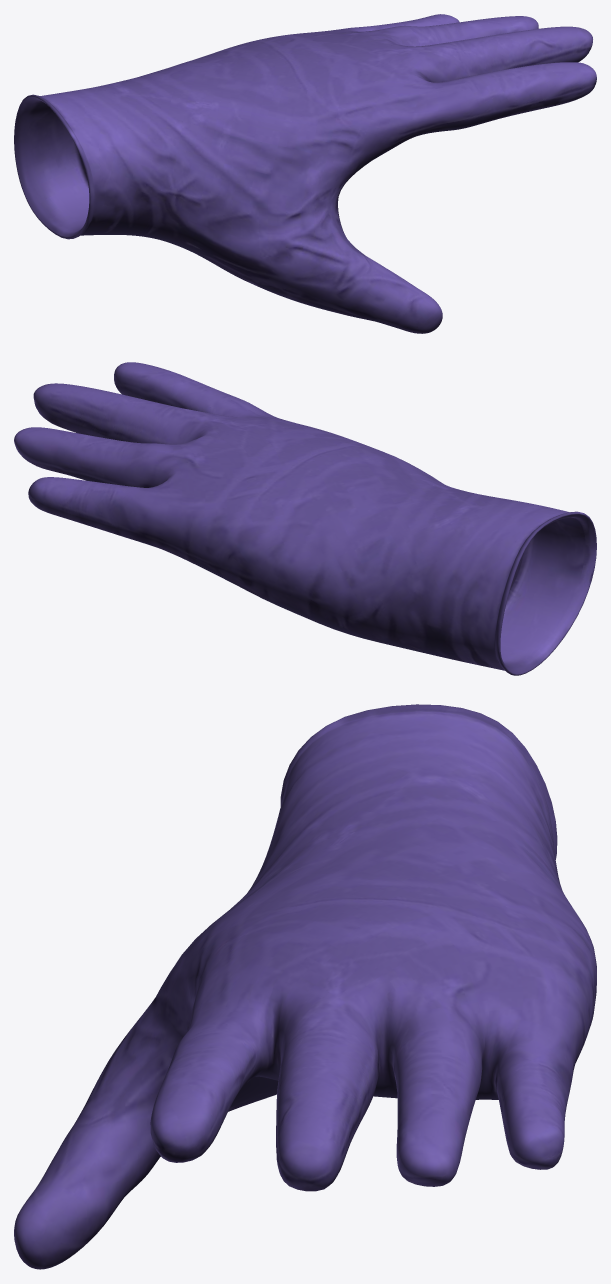
Rendered from guante.glb.
3 views of the same model, one above another, from view 1: azimuth 30°, elevation 25°; view 2: azimuth 150°, elevation 25°; view 3: azimuth 270°, elevation 25° (orthographic). The views are drawn at different scales.
Visible parts, largest first — view 1: defaultMaterial; view 2: defaultMaterial; view 3: defaultMaterial.
Part boxes in pixels (box(x1,y1,x2,y2)): defaultMaterial: box(14, 14, 596, 333); defaultMaterial: box(14, 362, 596, 675); defaultMaterial: box(14, 704, 596, 1269).
Bounding box in the file's own units: 0.2857 × 0.1115 × 0.1688.
Materials: 1 (1 with a texture image).
